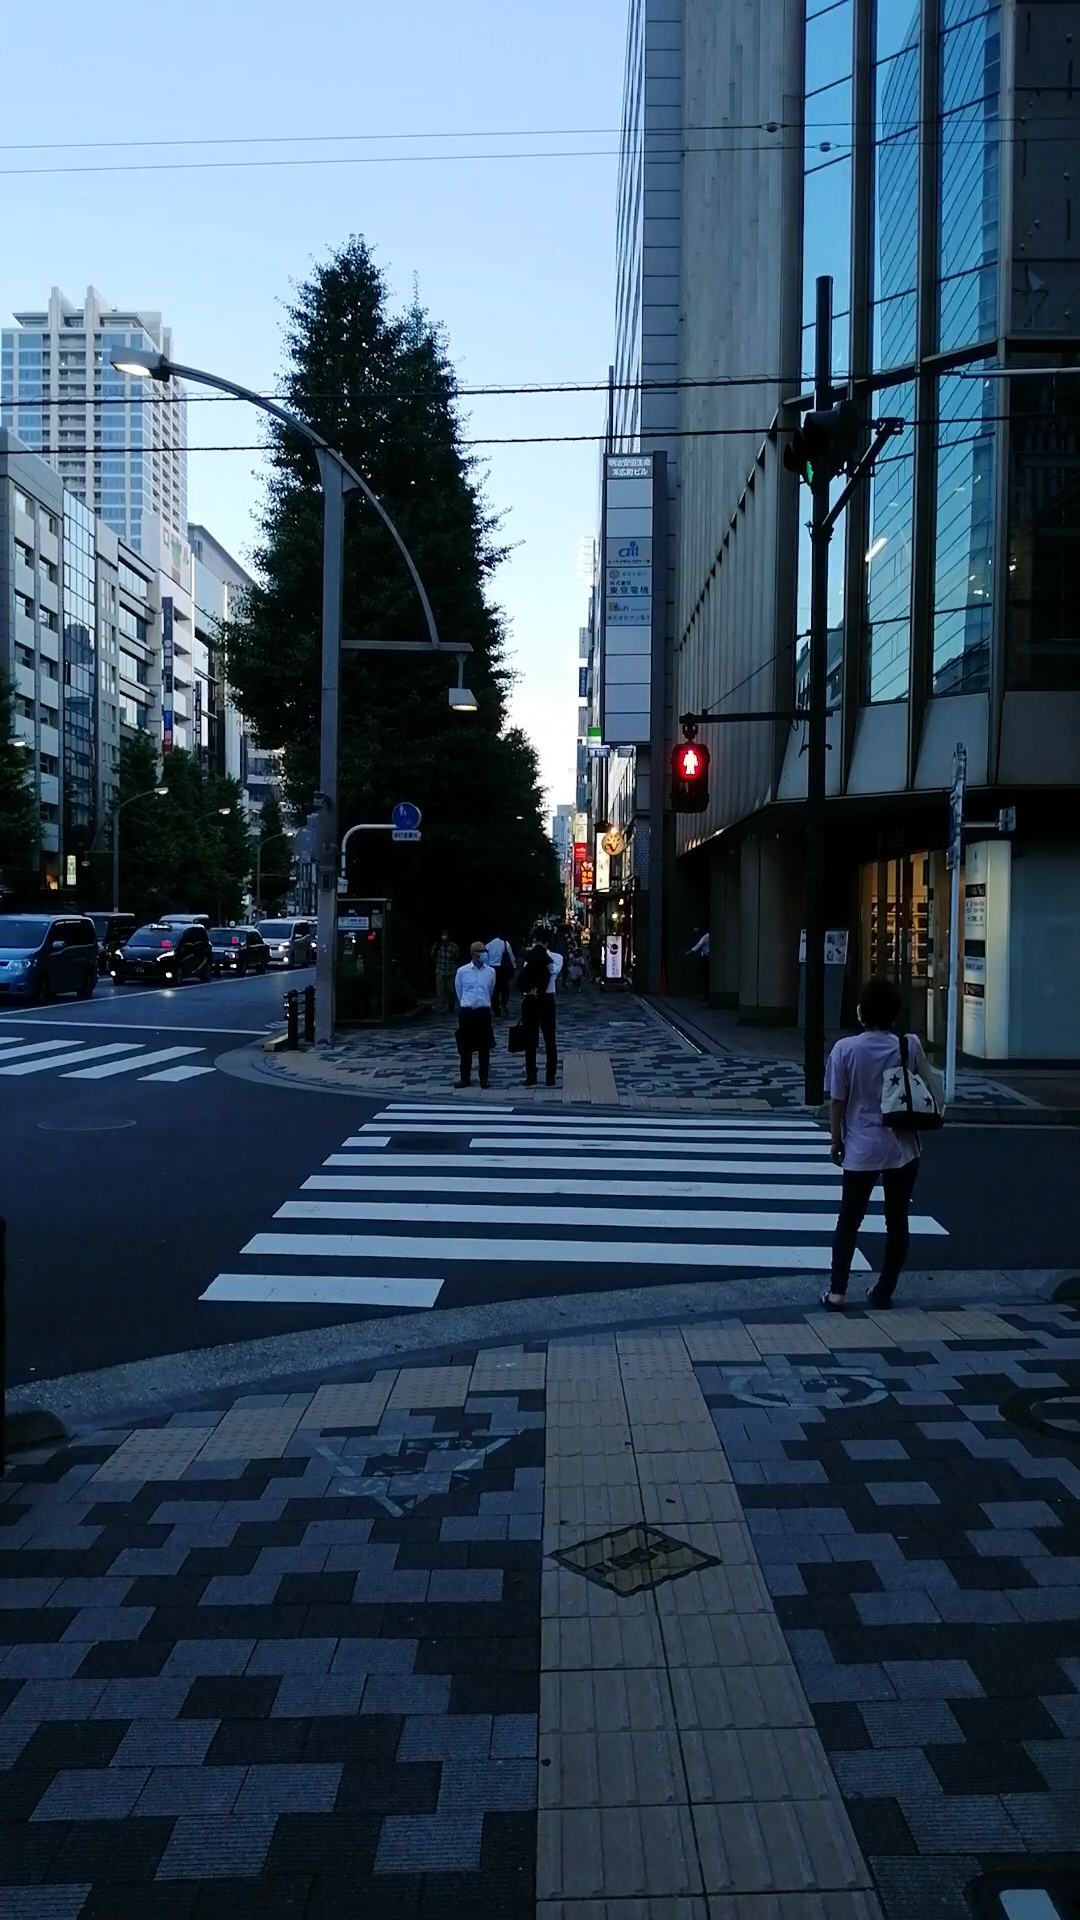red: (673, 741, 712, 811)
